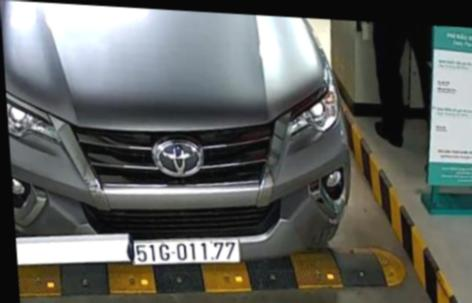License_Plate: (130, 233, 248, 278)
